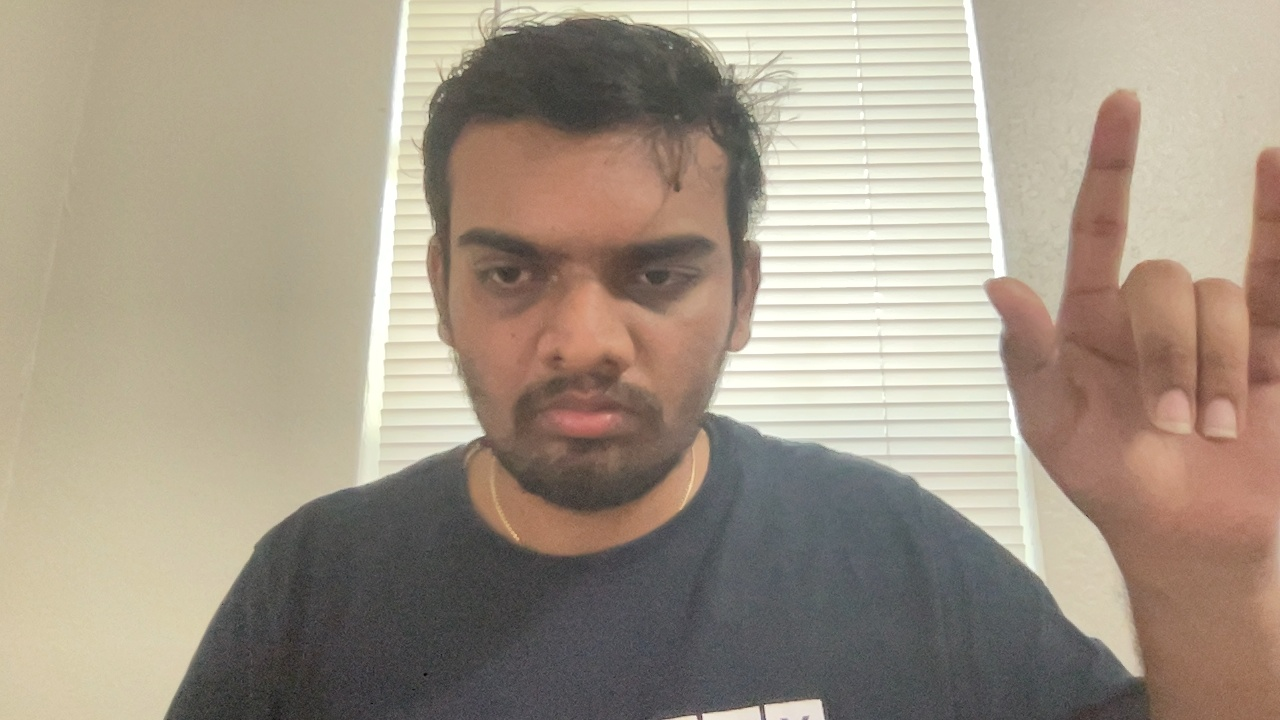i love you: (998, 83, 1280, 533)
